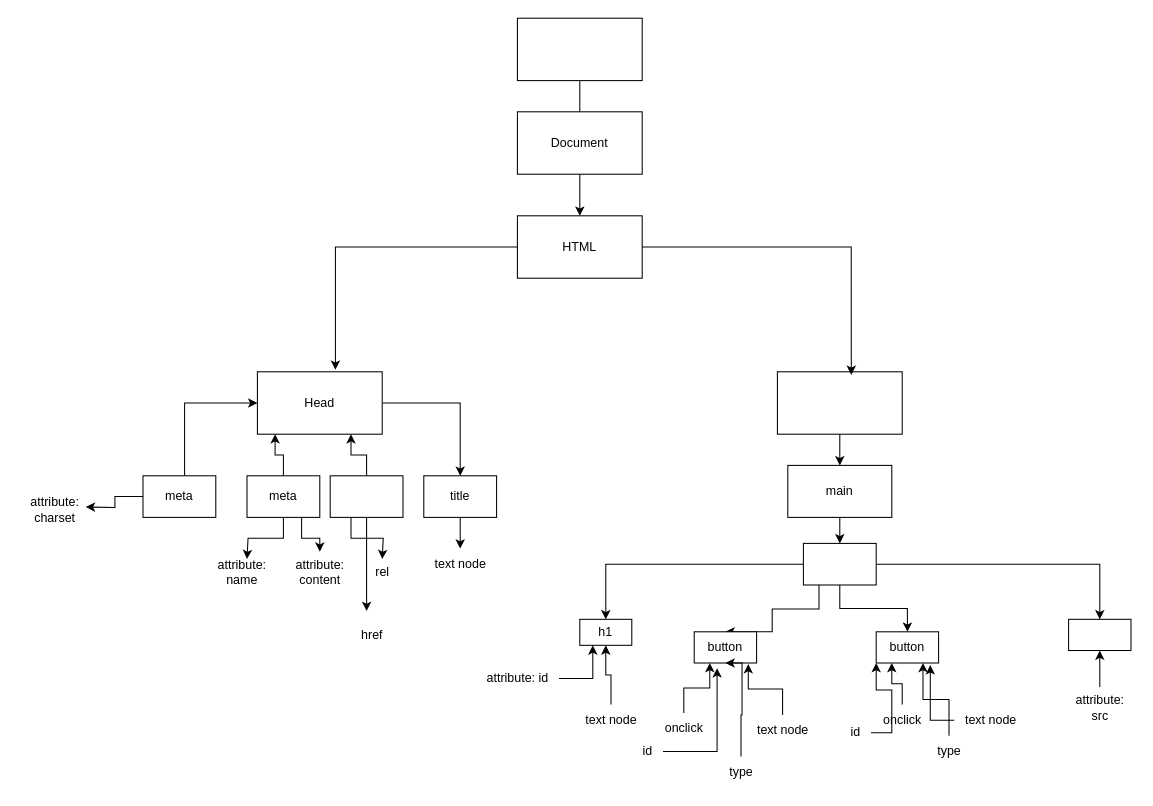
Some shapes in this 1153 by 806 pixel diagram are drawn without their labels. The centre of each missing label's shape, as x and y in pixels:
"Body" goes at point 839,402.
"link" goes at point 366,496.
"script" goes at point 1099,634.
"section" goes at point 839,563.
"Window" goes at point 579,49.
